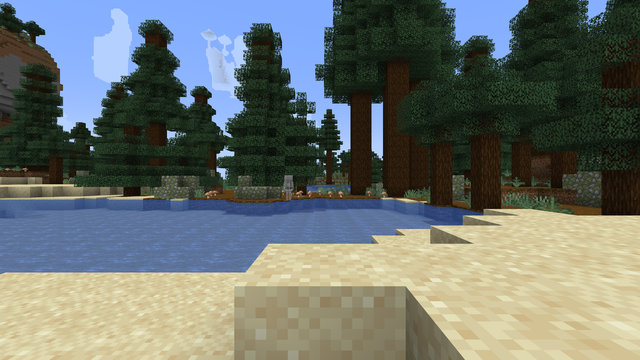squelettes: (284, 175, 292, 200)
